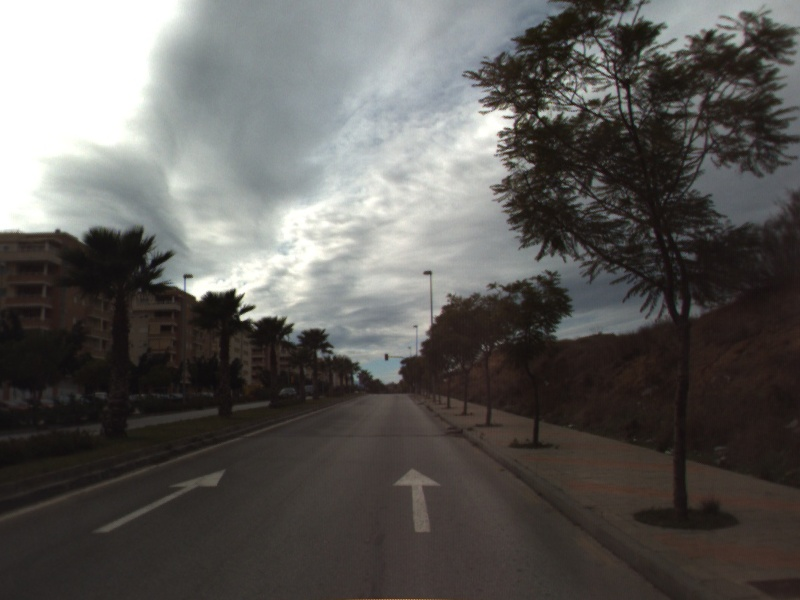STRAIGHT: (90, 467, 229, 536), (390, 466, 444, 534)
